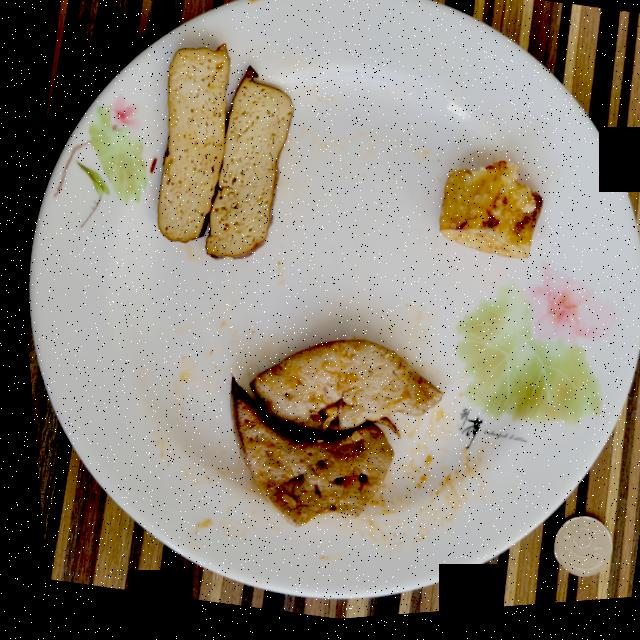coin: (543, 524, 602, 585)
firm tofu: (153, 47, 291, 262)
fried potato: (434, 166, 539, 266)
pig liver: (222, 344, 435, 530)
